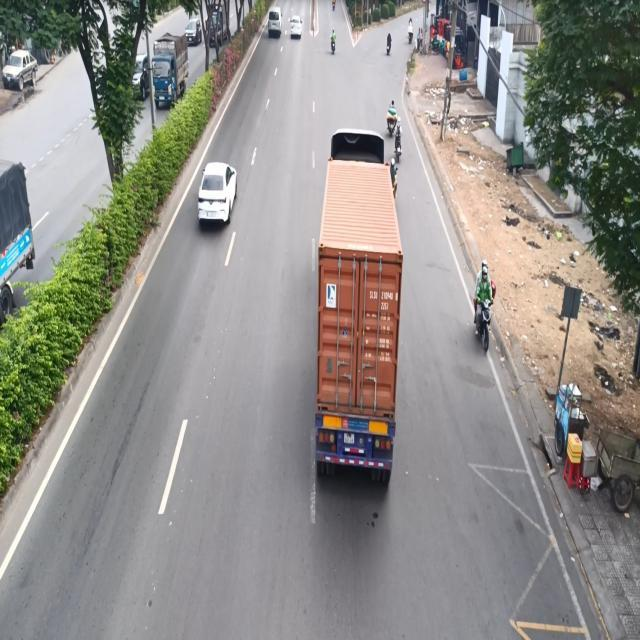car: (196, 161, 237, 225)
container-truck: (313, 128, 403, 485)
motorcycle: (473, 300, 496, 354)
person: (473, 270, 494, 325), (329, 28, 336, 54), (385, 32, 392, 55)
truck: (0, 156, 35, 329)
